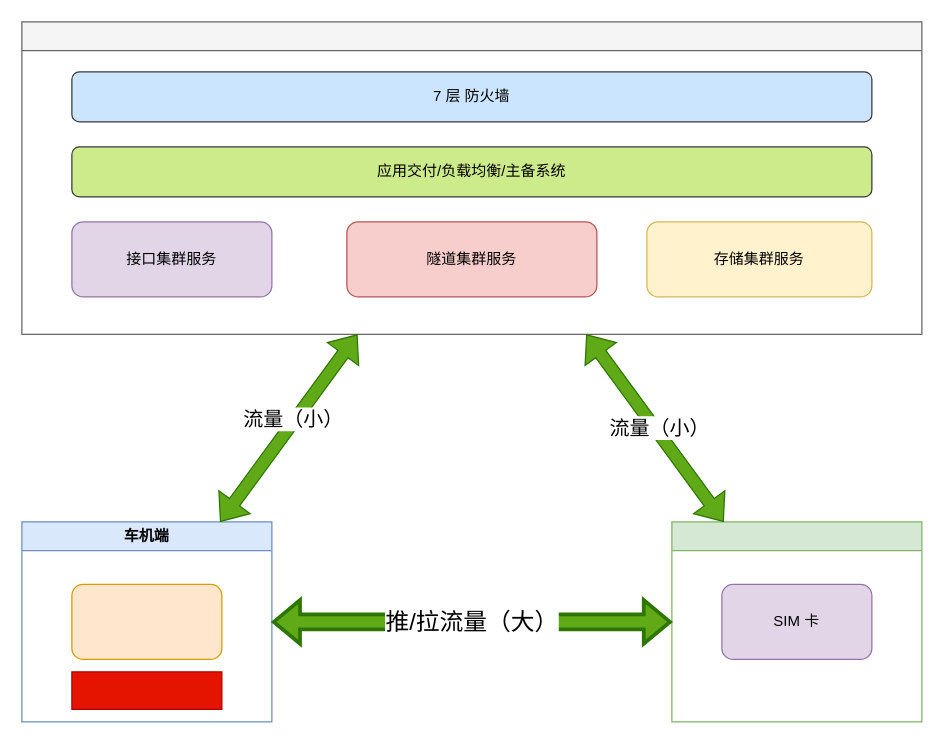
Some shapes in this 944 by 744 pixel diagram are drawn without their labels. The shapes that lost their labels are listed below. From the top down, each one's box as (x1, y1, x2, y2) in pixels, then its label:
(21, 21, 922, 334): 云端
(71, 583, 222, 659): 车联网 SIM 卡
(671, 521, 922, 722): 手机端
(71, 671, 222, 709): 流量产生在这里
